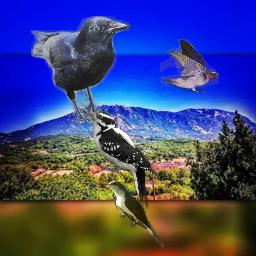Crow: (31, 16, 130, 123)
Cuckoo: (104, 179, 164, 248)
Swallow: (160, 39, 219, 93)
Woodpecker: (78, 105, 159, 211)
